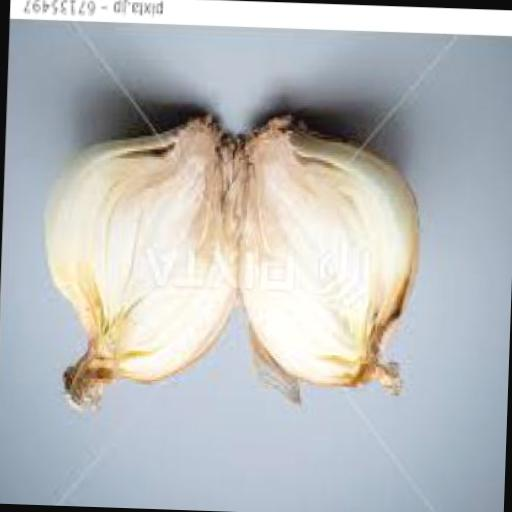biodegradable: (40, 116, 246, 416), (236, 114, 426, 414)
